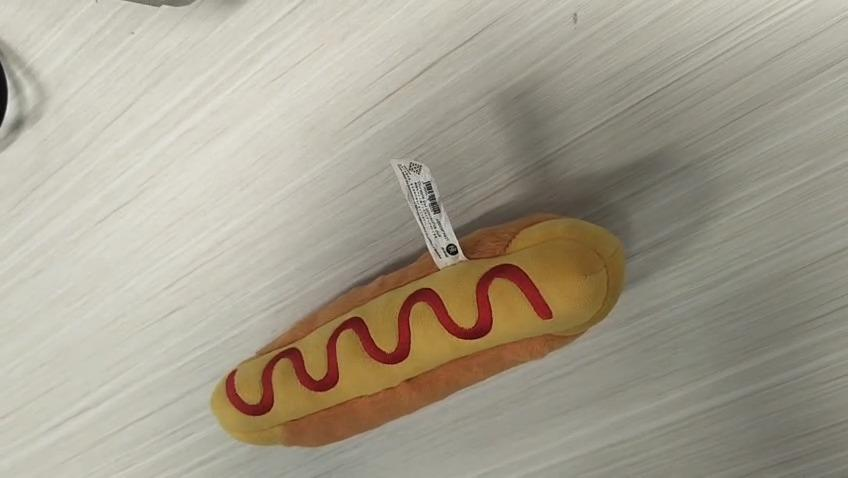hotdog: (209, 210, 626, 447)
